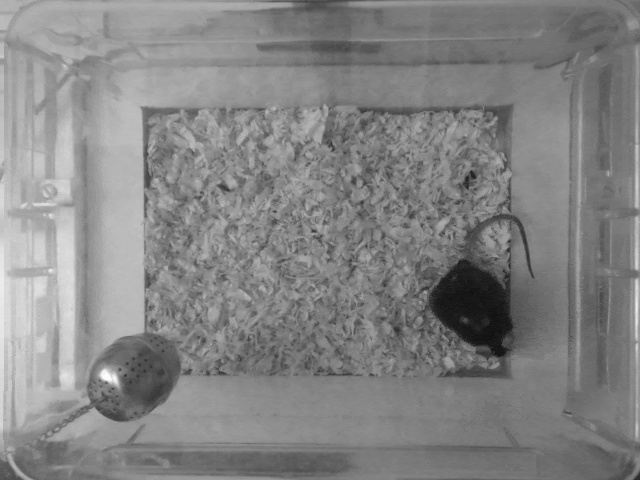mice: (429, 211, 540, 360)
